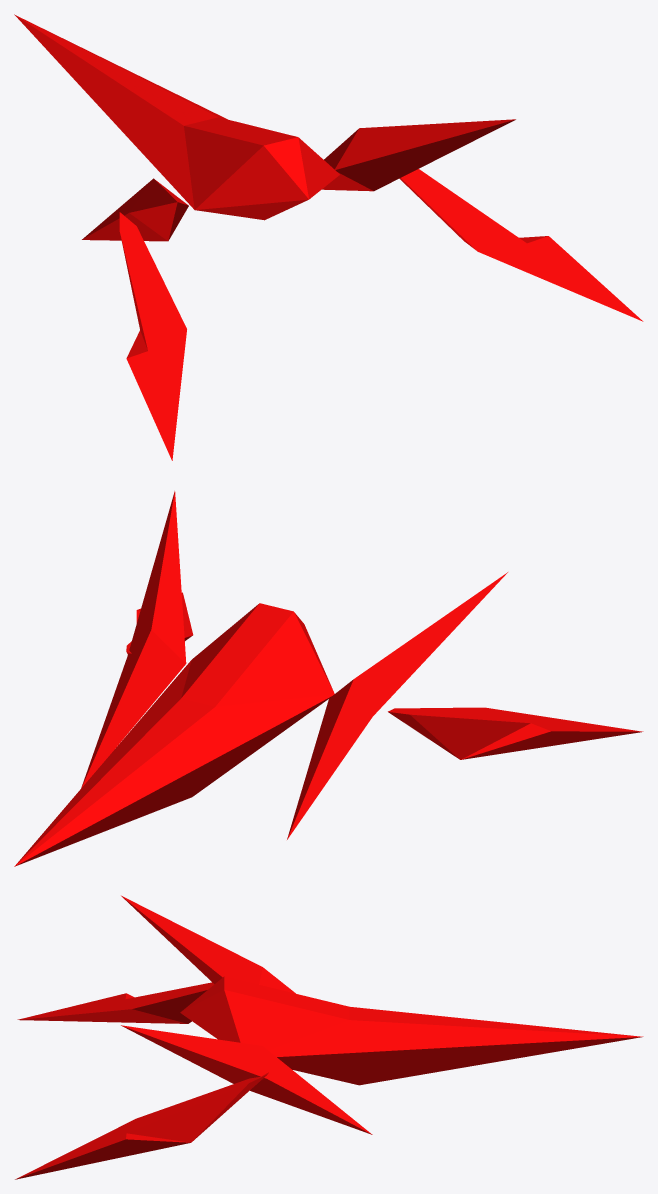
File: ArmWingPhase2.obj
The picture shows the model from 3 angles, top to bottom: view 1: azimuth 30°, elevation 25°; view 2: azimuth 150°, elevation 25°; view 3: azimuth 270°, elevation 25°; orthographic projection. The views are drawn at different scales.
Parts seen in each view (by area): view 1: Plane.001; view 2: Plane.001; view 3: Plane.001.
Boxes of the visible parts, box(x1,y1,x2,y2) form: Plane.001: box(14, 14, 643, 460); Plane.001: box(14, 491, 643, 866); Plane.001: box(15, 895, 643, 1179).
Bounding box in the file's own units: 1.28 × 0.5064 × 1.9.
